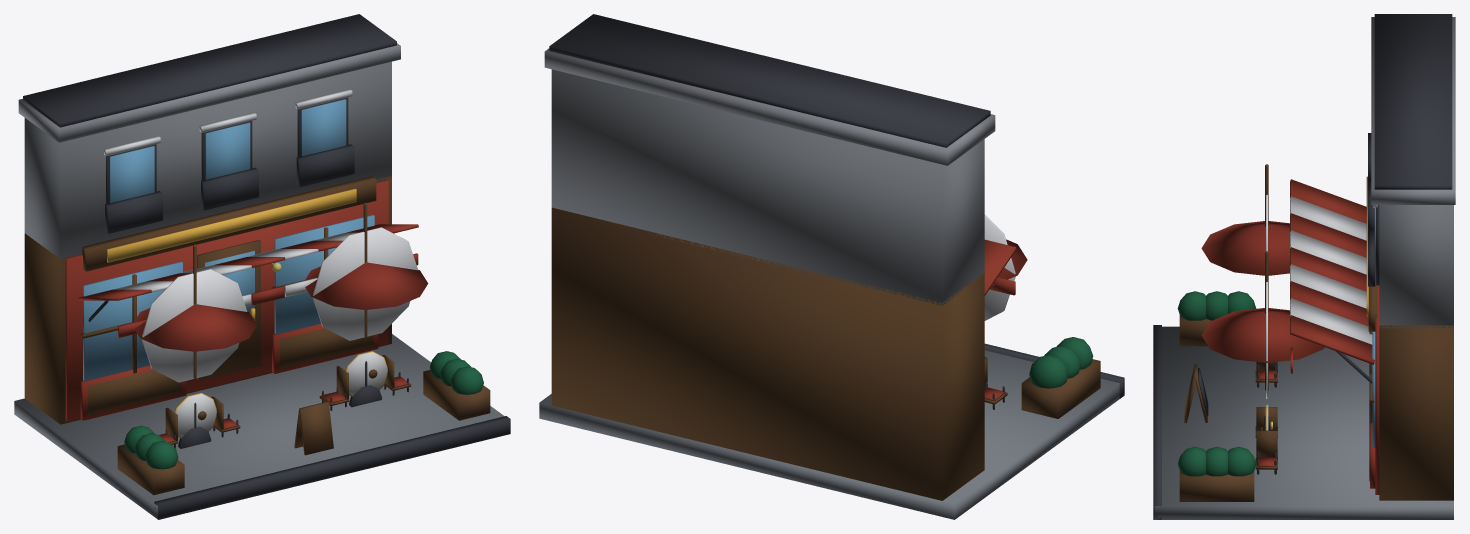
Rendered from paris_cafe.glb.
3 views of the same model, side by side, from view 1: azimuth 30°, elevation 25°; view 2: azimuth 150°, elevation 25°; view 3: azimuth 270°, elevation 25° (orthographic). The views are drawn at different scales.
Parts seen in each view (by area): view 1: paris_cafe; view 2: paris_cafe; view 3: paris_cafe.
Part boxes in pixels (x1,y1,x2,y2): paris_cafe: (14, 14, 510, 519); paris_cafe: (539, 14, 1124, 519); paris_cafe: (1153, 14, 1455, 519).
Bounding box in the file's own units: 6.8 × 5.86 × 4.84.
